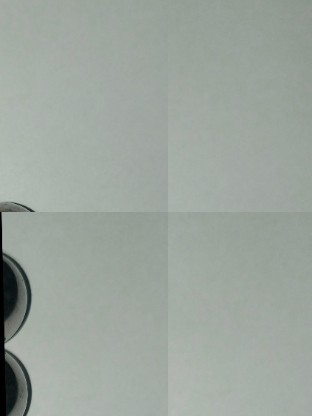ironball: (0, 243, 37, 346), (0, 347, 39, 414)
